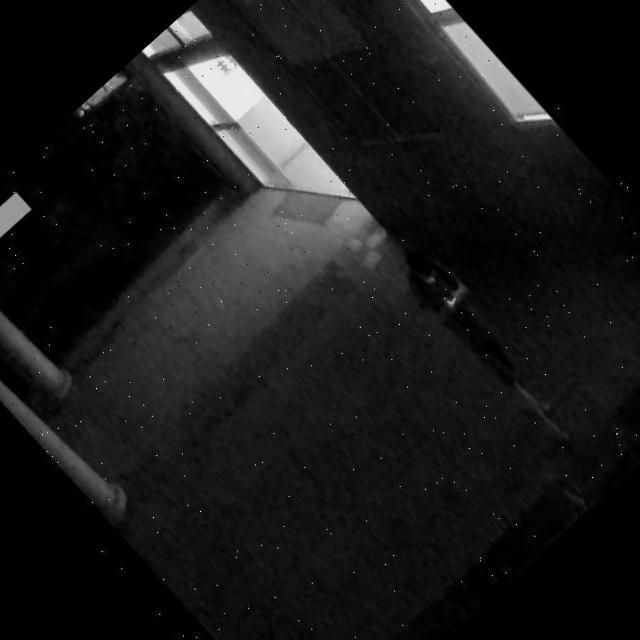person: (384, 232, 587, 449)
